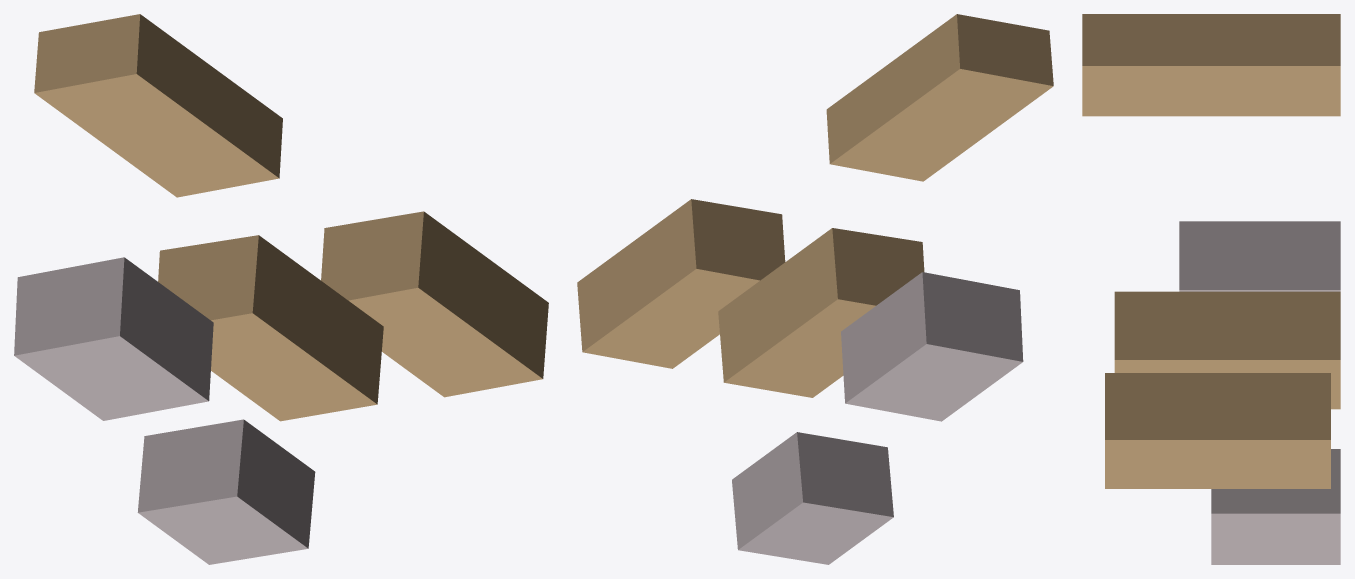
The picture shows the model from 3 angles, left to right: view 1: azimuth 30°, elevation 25°; view 2: azimuth 150°, elevation 25°; view 3: azimuth 270°, elevation 25°; orthographic projection. The views are drawn at different scales.
Visible parts, largest first — view 1: 0_0_3_2_0_0_1_1_3; view 2: 0_0_3_2_0_0_1_1_3; view 3: 0_0_3_2_0_0_1_1_3.
Part boxes in pixels (x1,y1,x2,y2): 0_0_3_2_0_0_1_1_3: (14, 14, 548, 564); 0_0_3_2_0_0_1_1_3: (577, 14, 1053, 564); 0_0_3_2_0_0_1_1_3: (1082, 14, 1340, 564).
Size of the model in its own units: 39.25 by 47.54 by 24.
